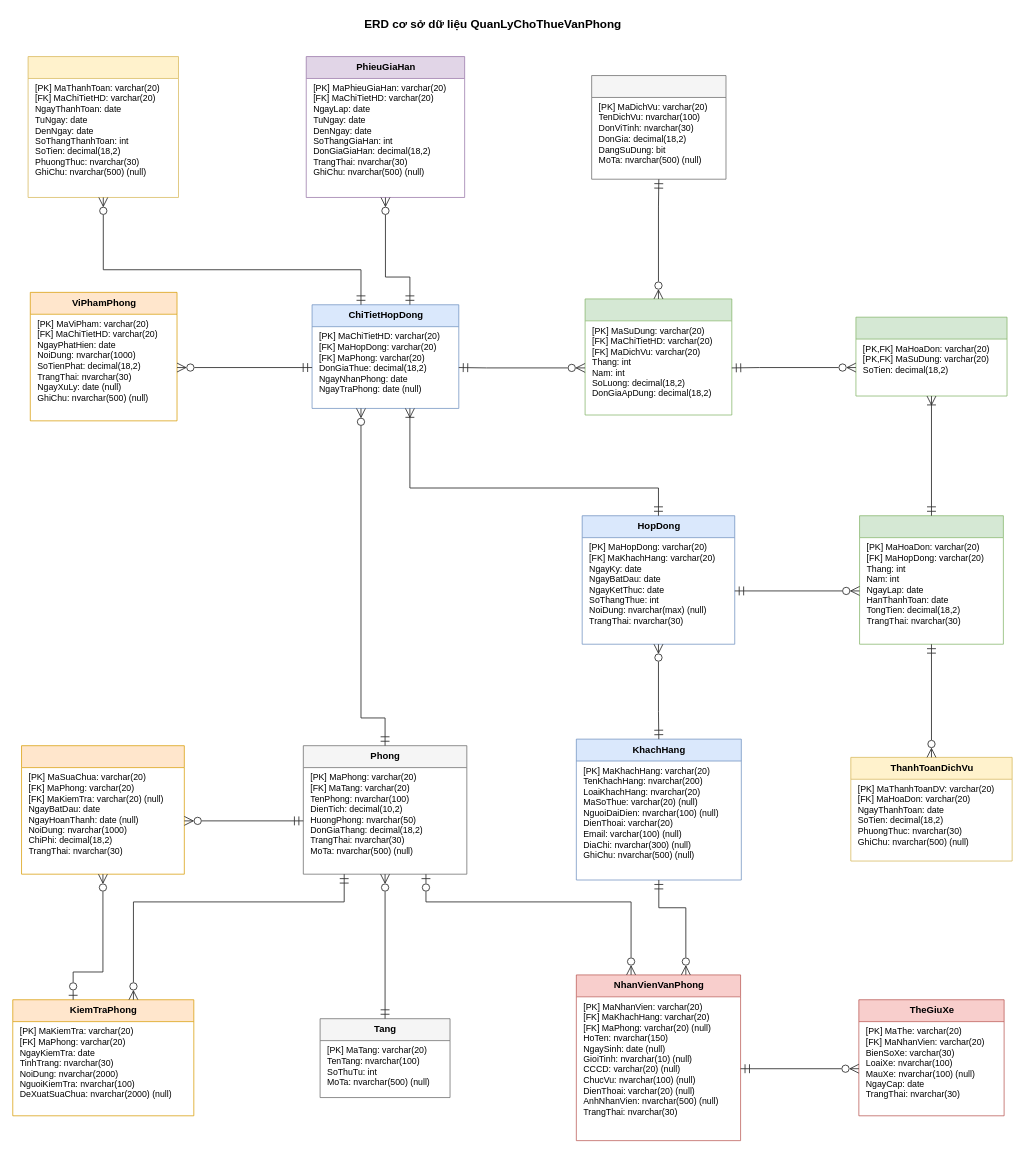
This 1025x1155 diagram has some shape labels left out. Each missing label, with the box of its shape:
ChiTietHoaDonDichVu: (855, 316, 1007, 396)
HoaDonDichVu: (859, 515, 1003, 644)
LoaiDichVu: (591, 75, 726, 179)
SuaChuaPhong: (21, 745, 184, 874)
SuDungDichVu: (584, 298, 732, 415)
ThanhToanTienThue: (27, 56, 178, 197)
